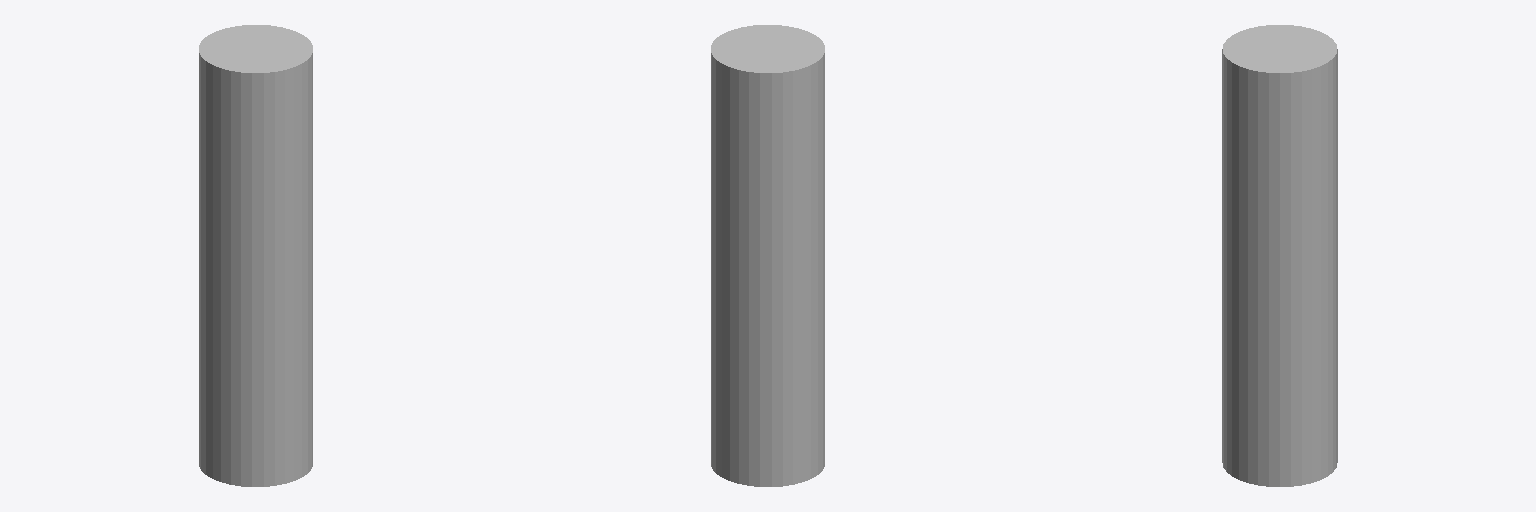
File: silinder.obj
3 renders of one model, left to right at view 1: azimuth 30°, elevation 25°; view 2: azimuth 150°, elevation 25°; view 3: azimuth 270°, elevation 25°, orthographic.
Parts seen in each view (by area): view 1: Cylinder.003; view 2: Cylinder.003; view 3: Cylinder.003.
Boxes of the visible parts, x1=… form: Cylinder.003: x1=199, y1=25, x2=312, y2=486; Cylinder.003: x1=711, y1=25, x2=824, y2=486; Cylinder.003: x1=1222, y1=25, x2=1337, y2=486.
Bounding box in the file's own units: 4.75 × 18.85 × 4.75.